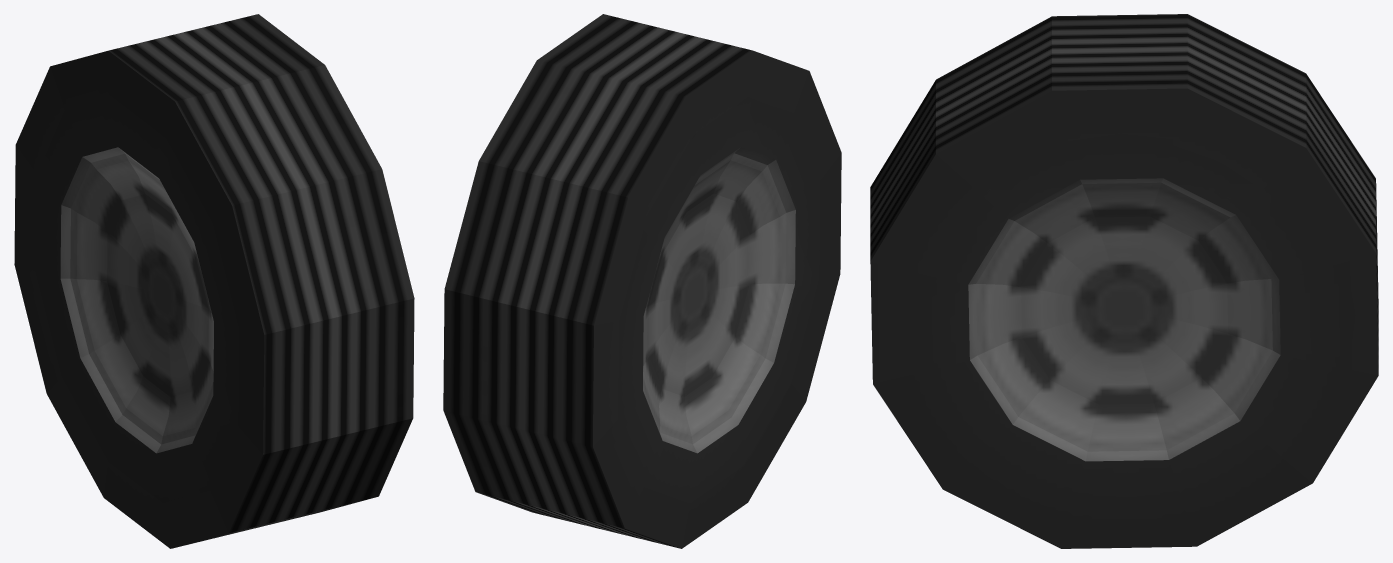
The model's file is D25WheelD.fbx.
3 renders of one model, left to right at view 1: azimuth 30°, elevation 25°; view 2: azimuth 150°, elevation 25°; view 3: azimuth 270°, elevation 25°, orthographic. The views are drawn at different scales.
Visible parts, largest first — view 1: GavrilWheel.003; view 2: GavrilWheel.003; view 3: GavrilWheel.003.
Part boxes in pixels (box(x1,y1,x2,y2)): GavrilWheel.003: box(14, 14, 414, 548); GavrilWheel.003: box(443, 14, 841, 548); GavrilWheel.003: box(870, 14, 1378, 548).
Size of the model in its own units: 0.3644 by 1.02 by 1.02.
